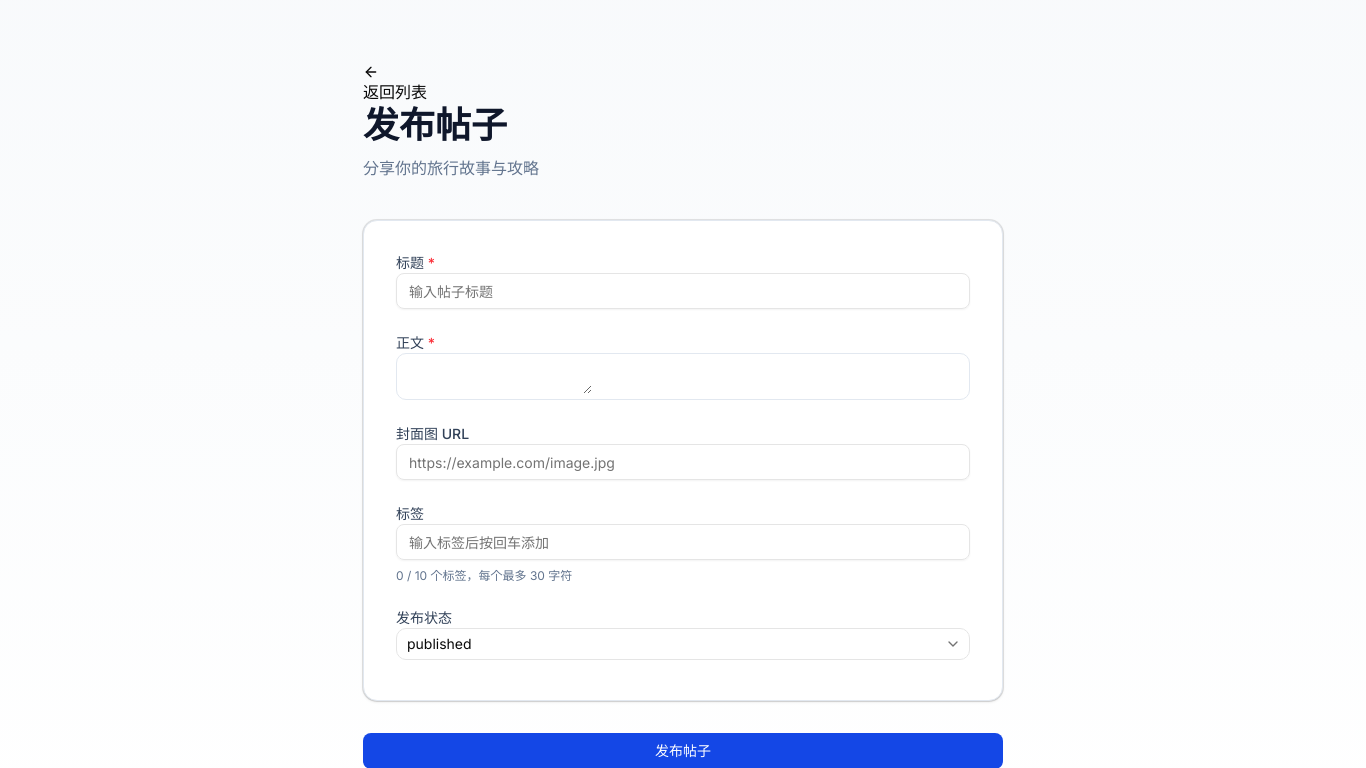
CreatePostPage › shows error message on API failure
Type "Duplicate Post" into the field labelled "标题 *" at (683, 291), box [396,273,970,309]
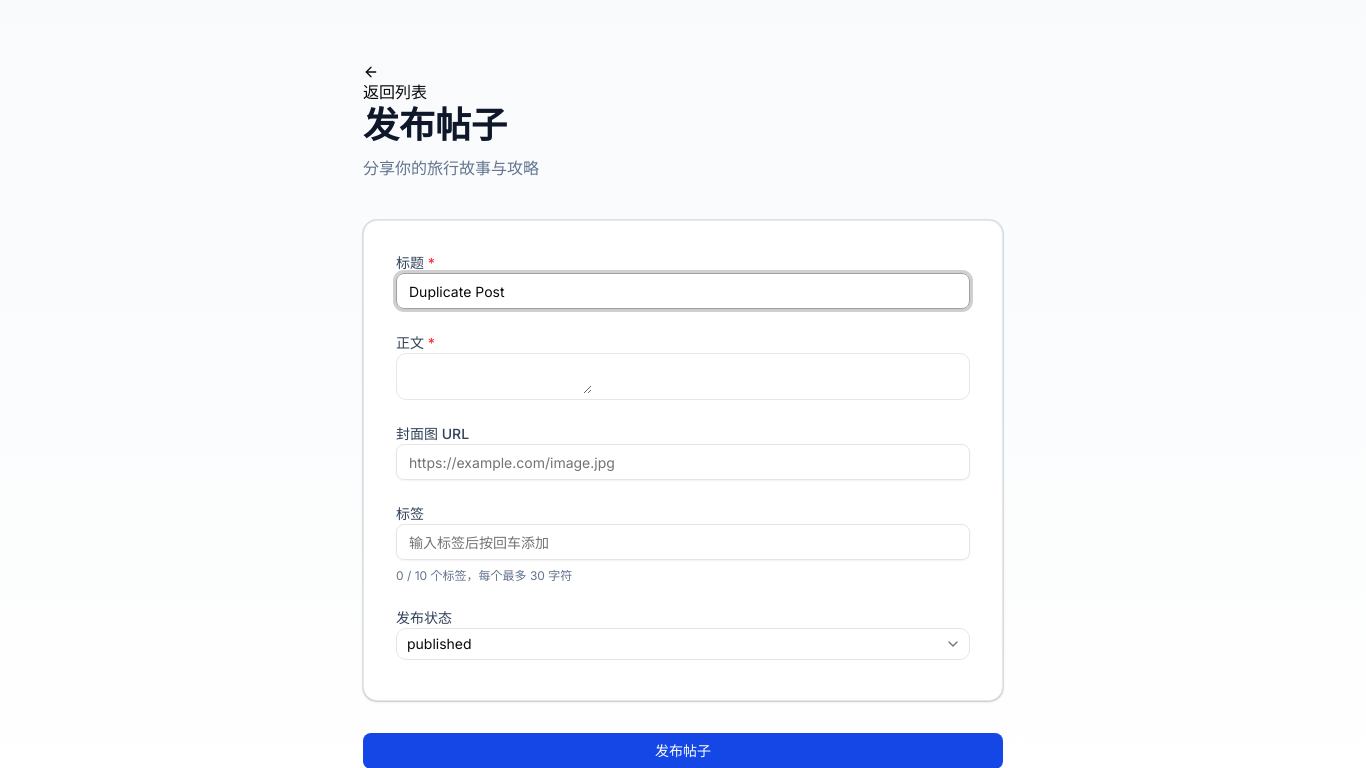
Type "Some content" into the text box with test id "md-editor" at (494, 374), box [397,354,592,394]
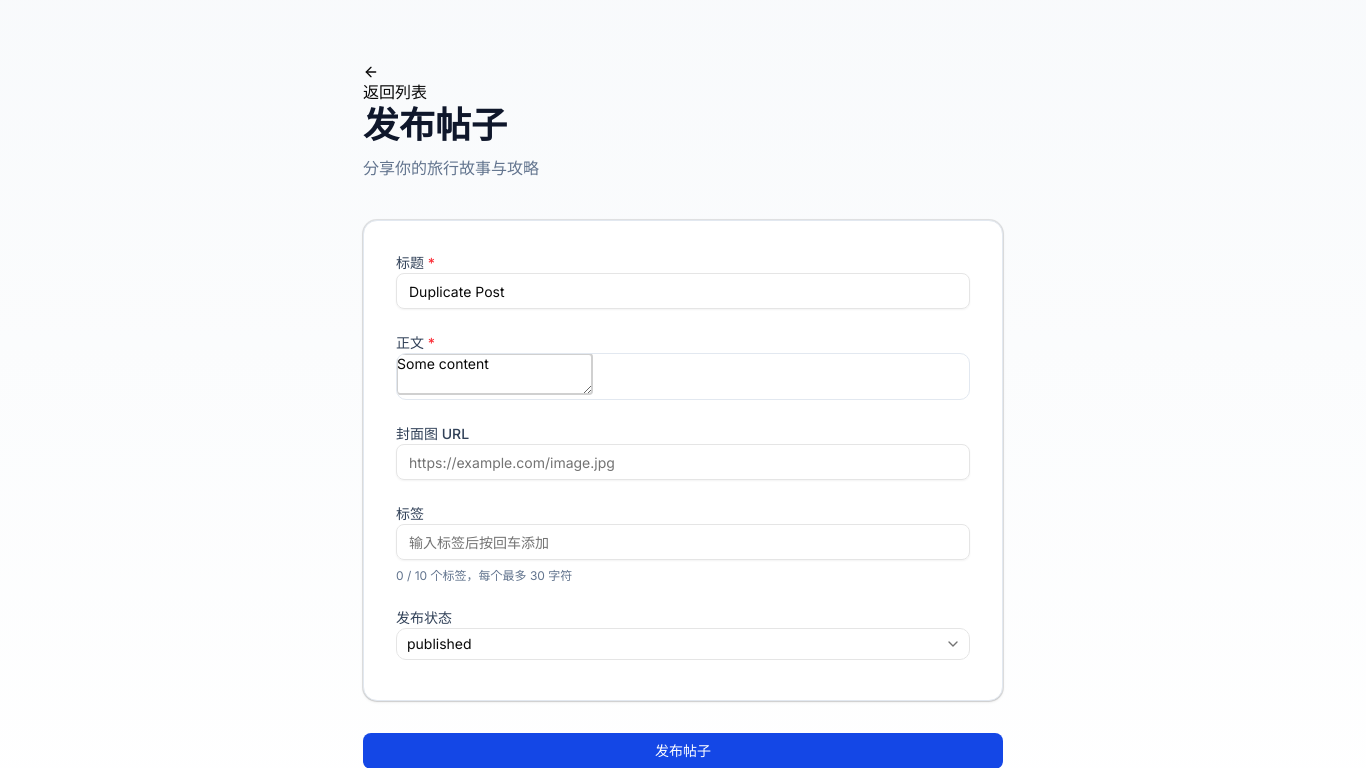
Click the button "发布帖子" at (683, 751), box [363,733,1003,767]
(page scrolled)
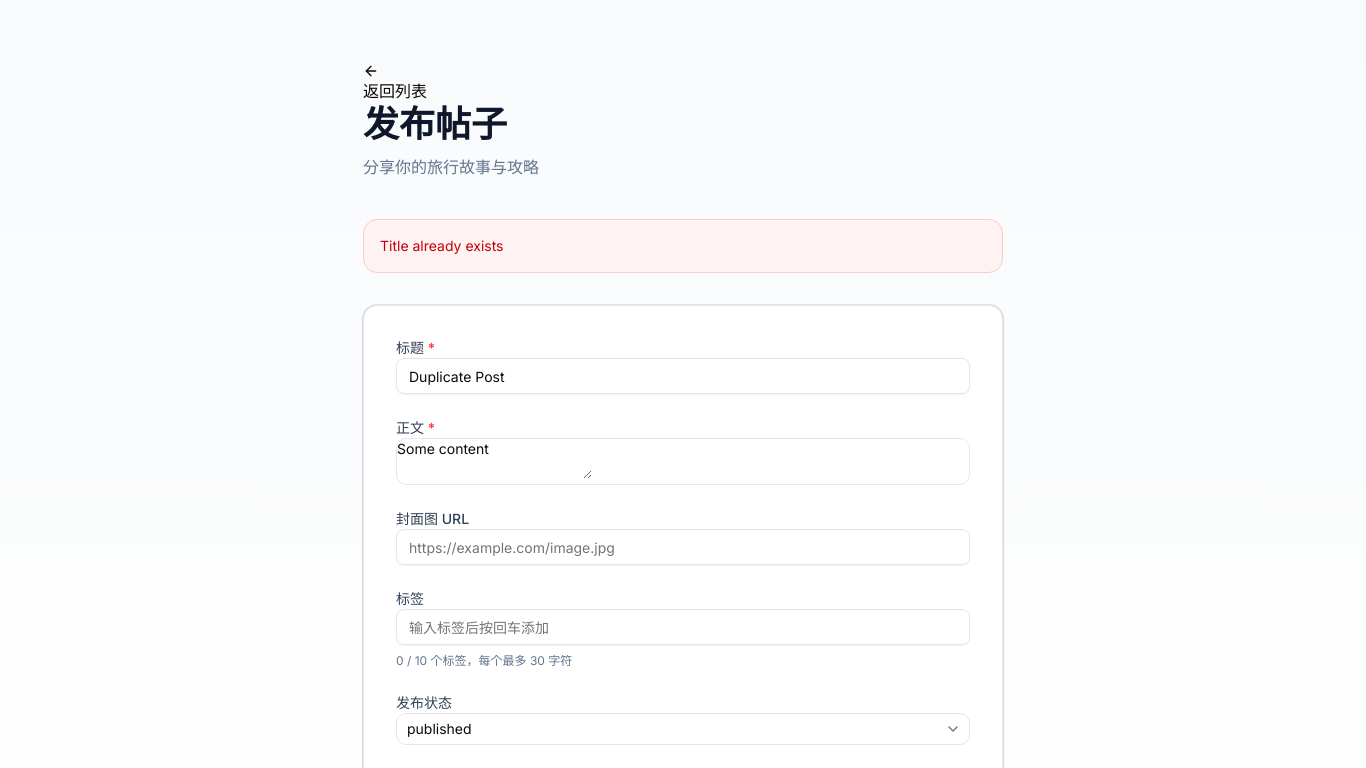
Now the text "Title already exists" is shown, box [380,237,504,254]
